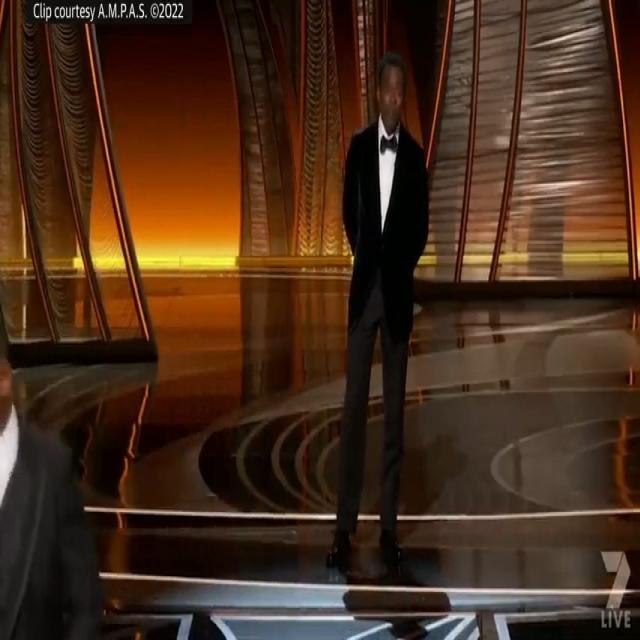non-fight: (311, 39, 441, 600)
